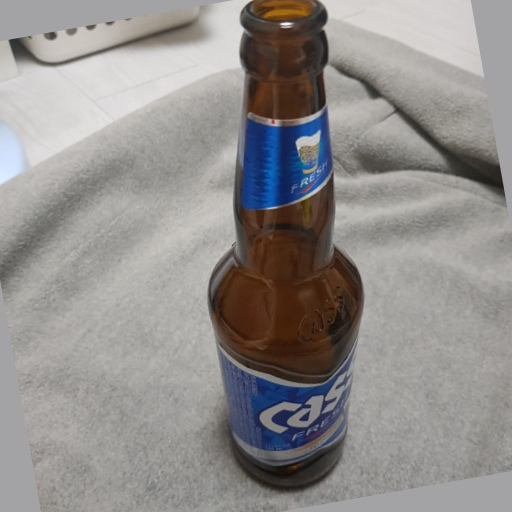Glass_1: (209, 2, 366, 491)
